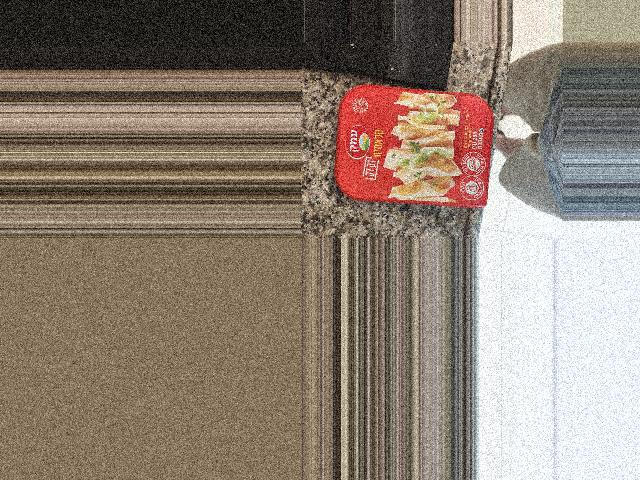cheese: (340, 85, 496, 211)
